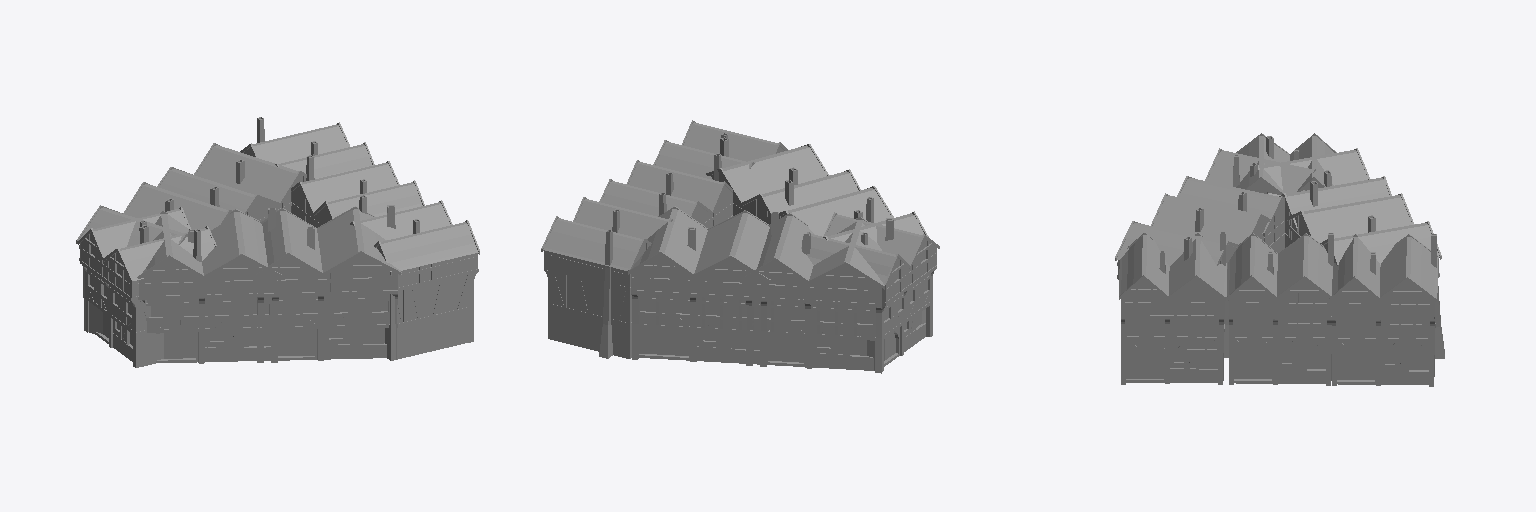
The model's file is casa_noble.obj.
The picture shows the model from 3 angles: view 1: azimuth 30°, elevation 25°; view 2: azimuth 150°, elevation 25°; view 3: azimuth 270°, elevation 25°; orthographic projection.
Parts seen in each view (by area): view 1: Conjunto_de_casas_noble_1_(Don_quijote)_House2.002; view 2: Conjunto_de_casas_noble_1_(Don_quijote)_House2.002; view 3: Conjunto_de_casas_noble_1_(Don_quijote)_House2.002.
Part boxes in pixels (left/top/right/bottom): Conjunto_de_casas_noble_1_(Don_quijote)_House2.002: left=76, top=117, right=479, bottom=367; Conjunto_de_casas_noble_1_(Don_quijote)_House2.002: left=541, top=120, right=939, bottom=373; Conjunto_de_casas_noble_1_(Don_quijote)_House2.002: left=1115, top=133, right=1444, bottom=386.
Size of the model in its own units: 15.22 by 6.02 by 14.72.